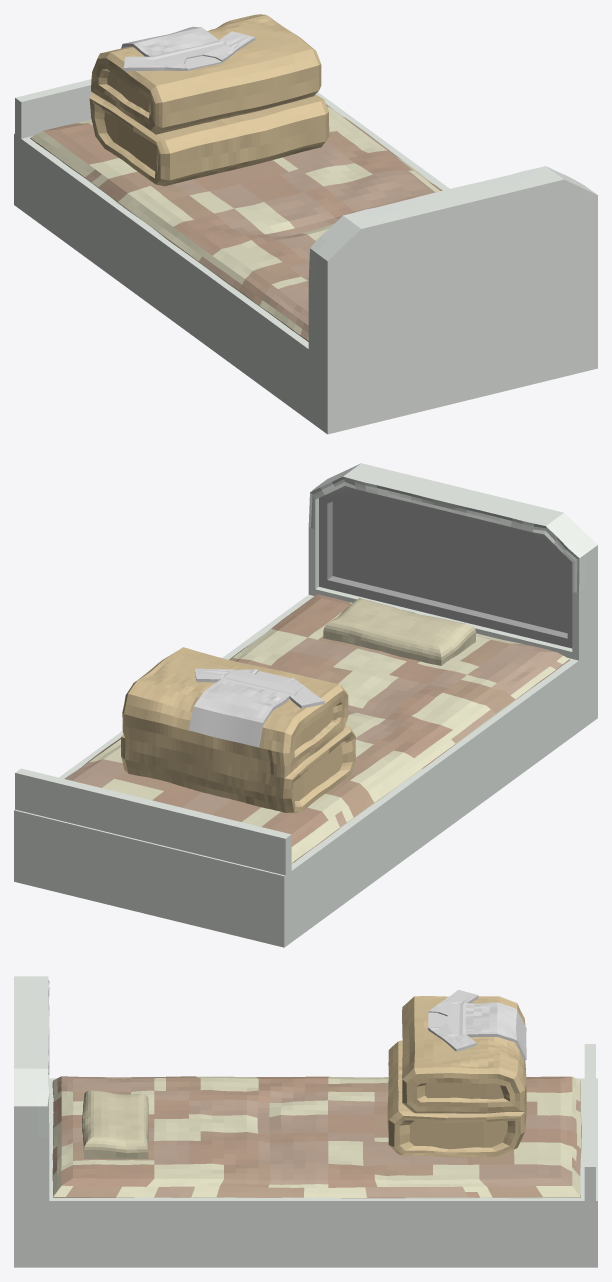
Rendered from Bed.fbx.
The picture shows the model from 3 angles, top to bottom: view 1: azimuth 30°, elevation 25°; view 2: azimuth 150°, elevation 25°; view 3: azimuth 270°, elevation 25°; orthographic projection. The views are drawn at different scales.
Visible parts, largest first — view 1: Bed frames, BED2, Quilt, cloth; view 2: Bed frames, BED2, Quilt, cloth, PILLO; view 3: Bed frames, BED2, Quilt, PILLO, cloth.
Boxes of the visible parts, left/top/right/bottom form: Bed frames: left=14, top=79, right=597, bottom=434; BED2: left=30, top=104, right=442, bottom=341; Quilt: left=89, top=14, right=329, bottom=186; cloth: left=121, top=26, right=255, bottom=70; Bed frames: left=14, top=463, right=597, bottom=947; BED2: left=64, top=594, right=569, bottom=863; Quilt: left=121, top=647, right=356, bottom=813; cloth: left=188, top=668, right=324, bottom=747; PILLO: left=323, top=598, right=475, bottom=665; Bed frames: left=14, top=976, right=597, bottom=1267; BED2: left=52, top=1076, right=581, bottom=1198; Quilt: left=387, top=996, right=526, bottom=1157; PILLO: left=82, top=1090, right=148, bottom=1159; cloth: left=428, top=990, right=526, bottom=1060.
Bounding box in the file's own units: 902 × 629 × 1812.
